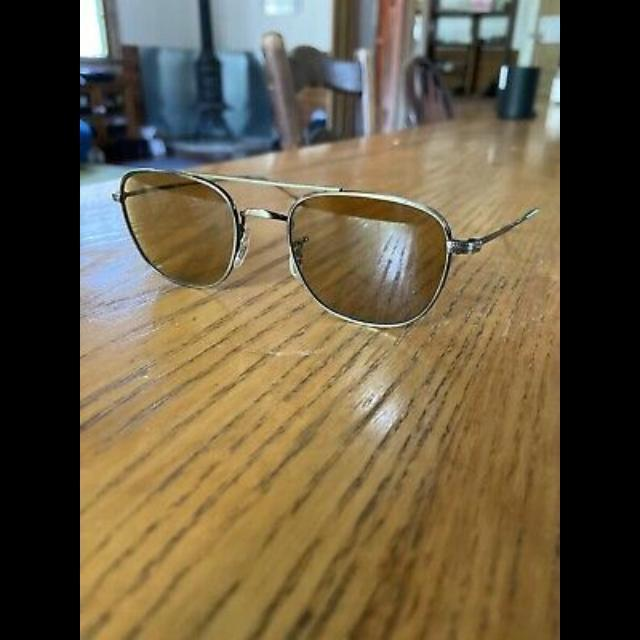sunglasses: (111, 166, 539, 327)
